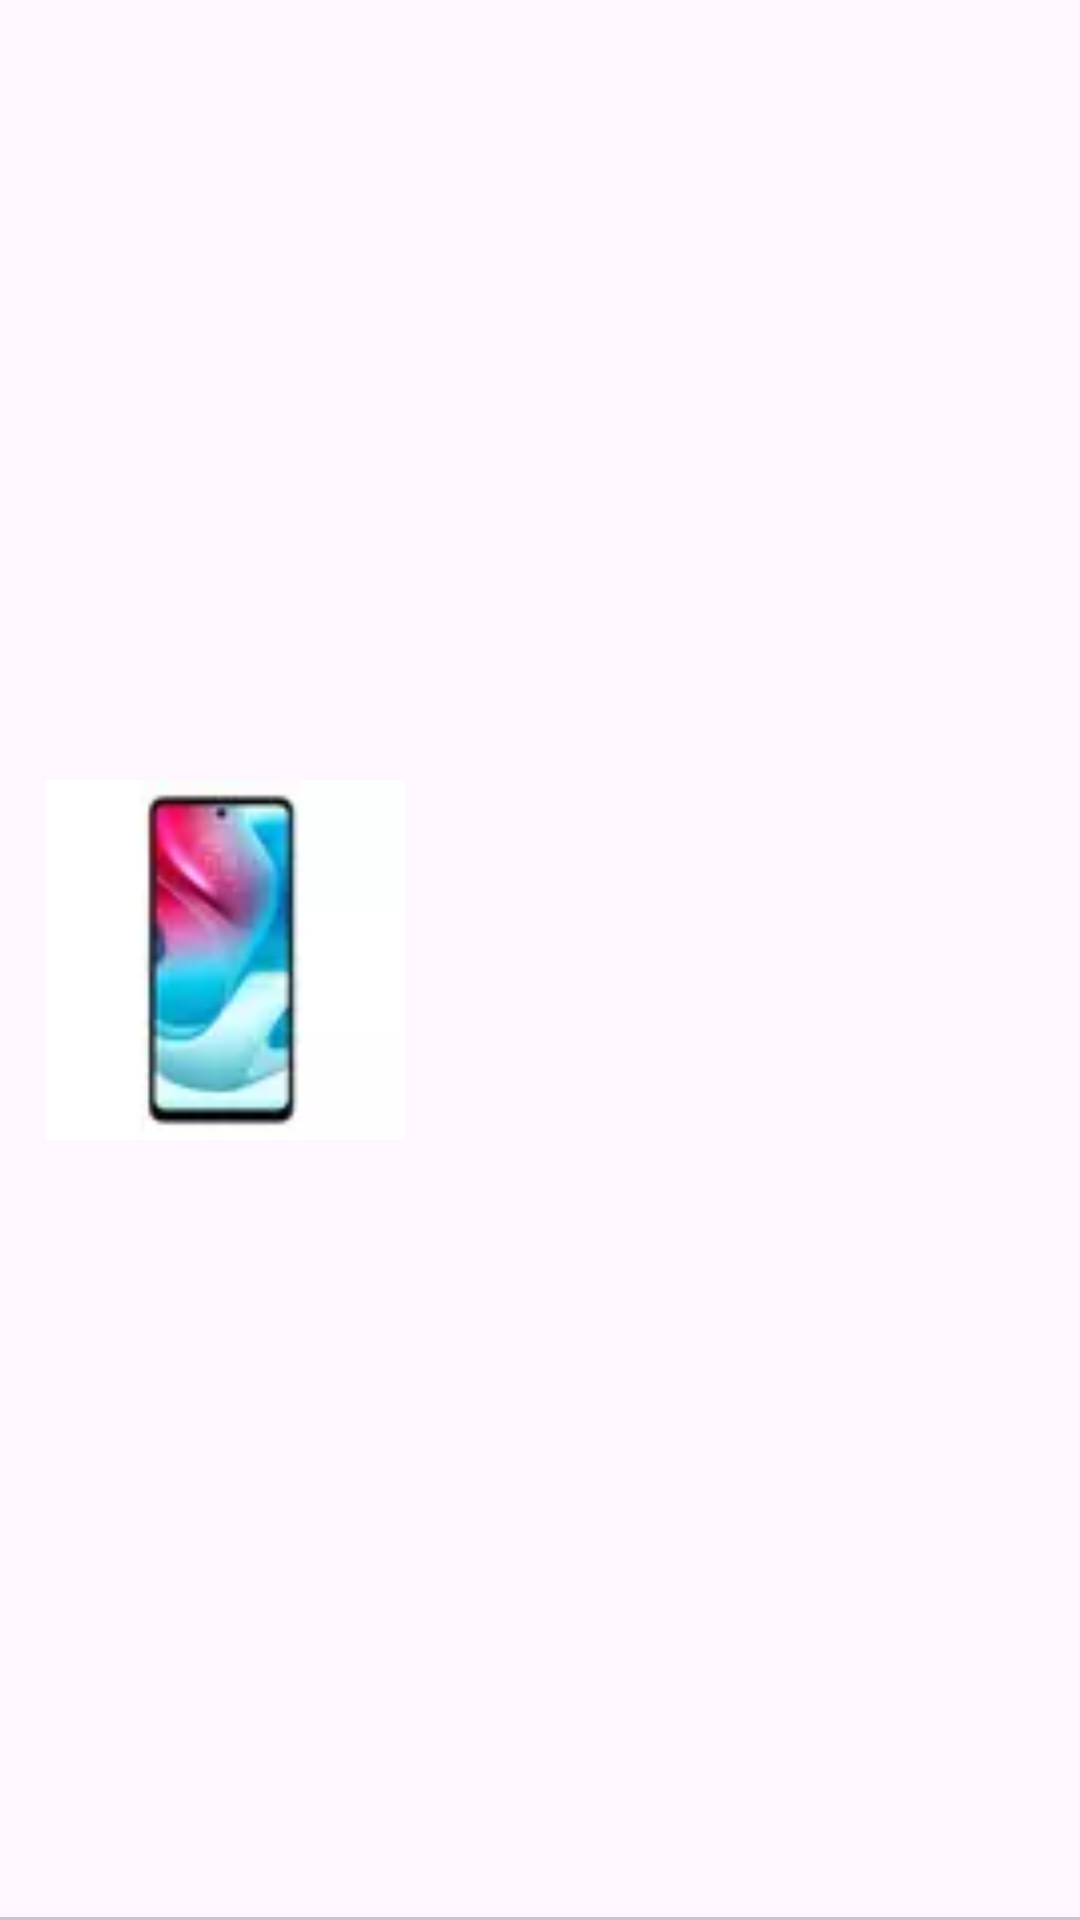

Point at icon controls on the screen. Image size 1080w x 1920h, points as point (x, y).
Product Image: point (222, 959)
